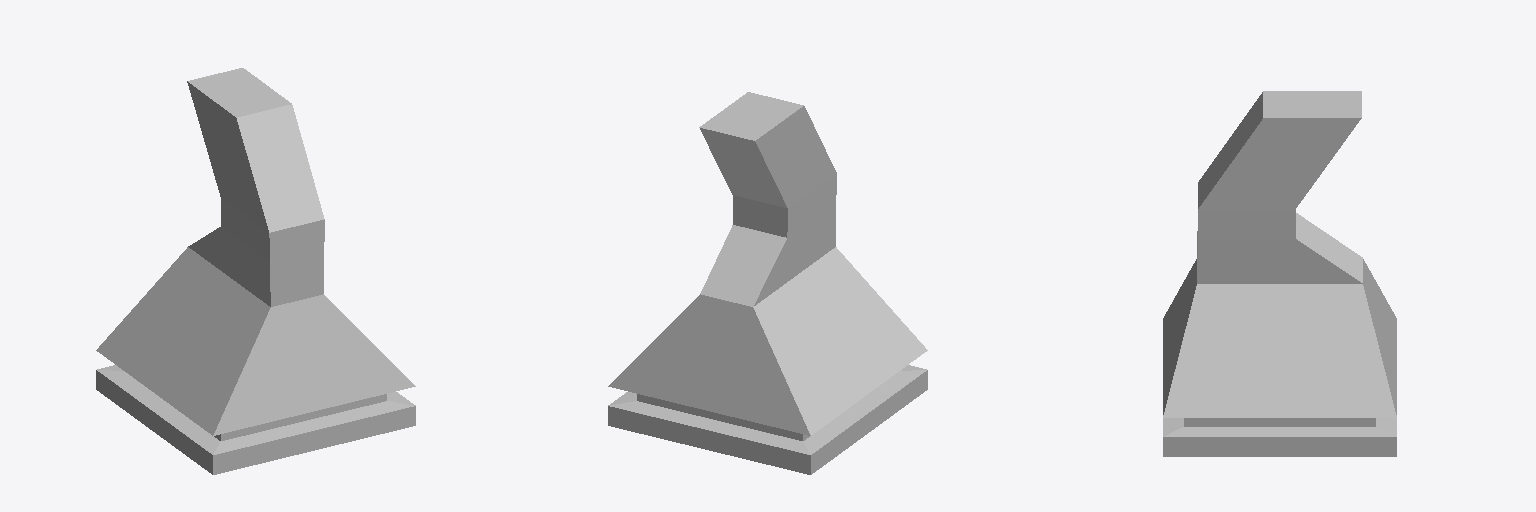
Rendered from knight.obj.
The picture shows the model from 3 angles: view 1: azimuth 30°, elevation 25°; view 2: azimuth 150°, elevation 25°; view 3: azimuth 270°, elevation 25°; orthographic projection.
Visible parts, largest first — view 1: Cube.001; view 2: Cube.001; view 3: Cube.001.
Part boxes in pixels (x1,y1,x2,y2): Cube.001: (96, 68, 415, 474); Cube.001: (608, 92, 927, 474); Cube.001: (1163, 91, 1396, 456).
Size of the model in its own units: 1.4 by 2 by 1.4.